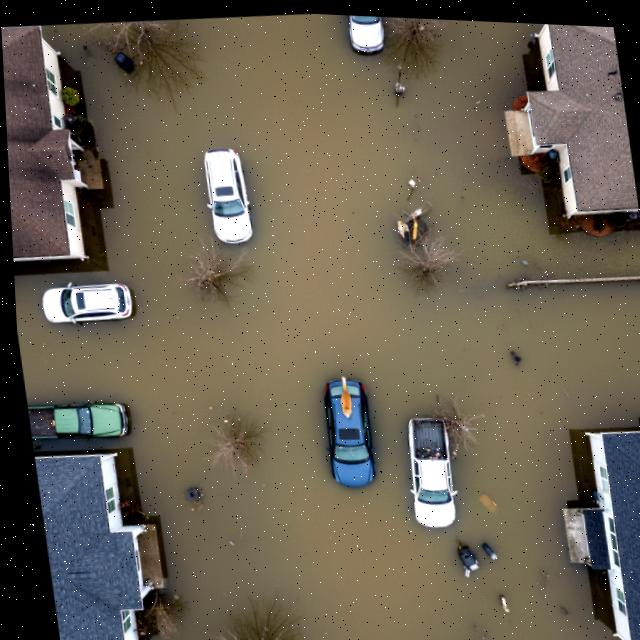cat: (332, 370, 361, 427)
